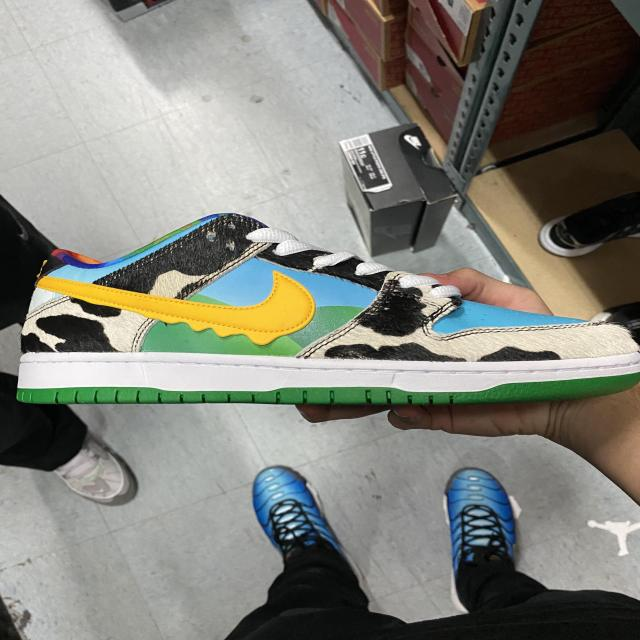shoe: (8, 210, 640, 413)
